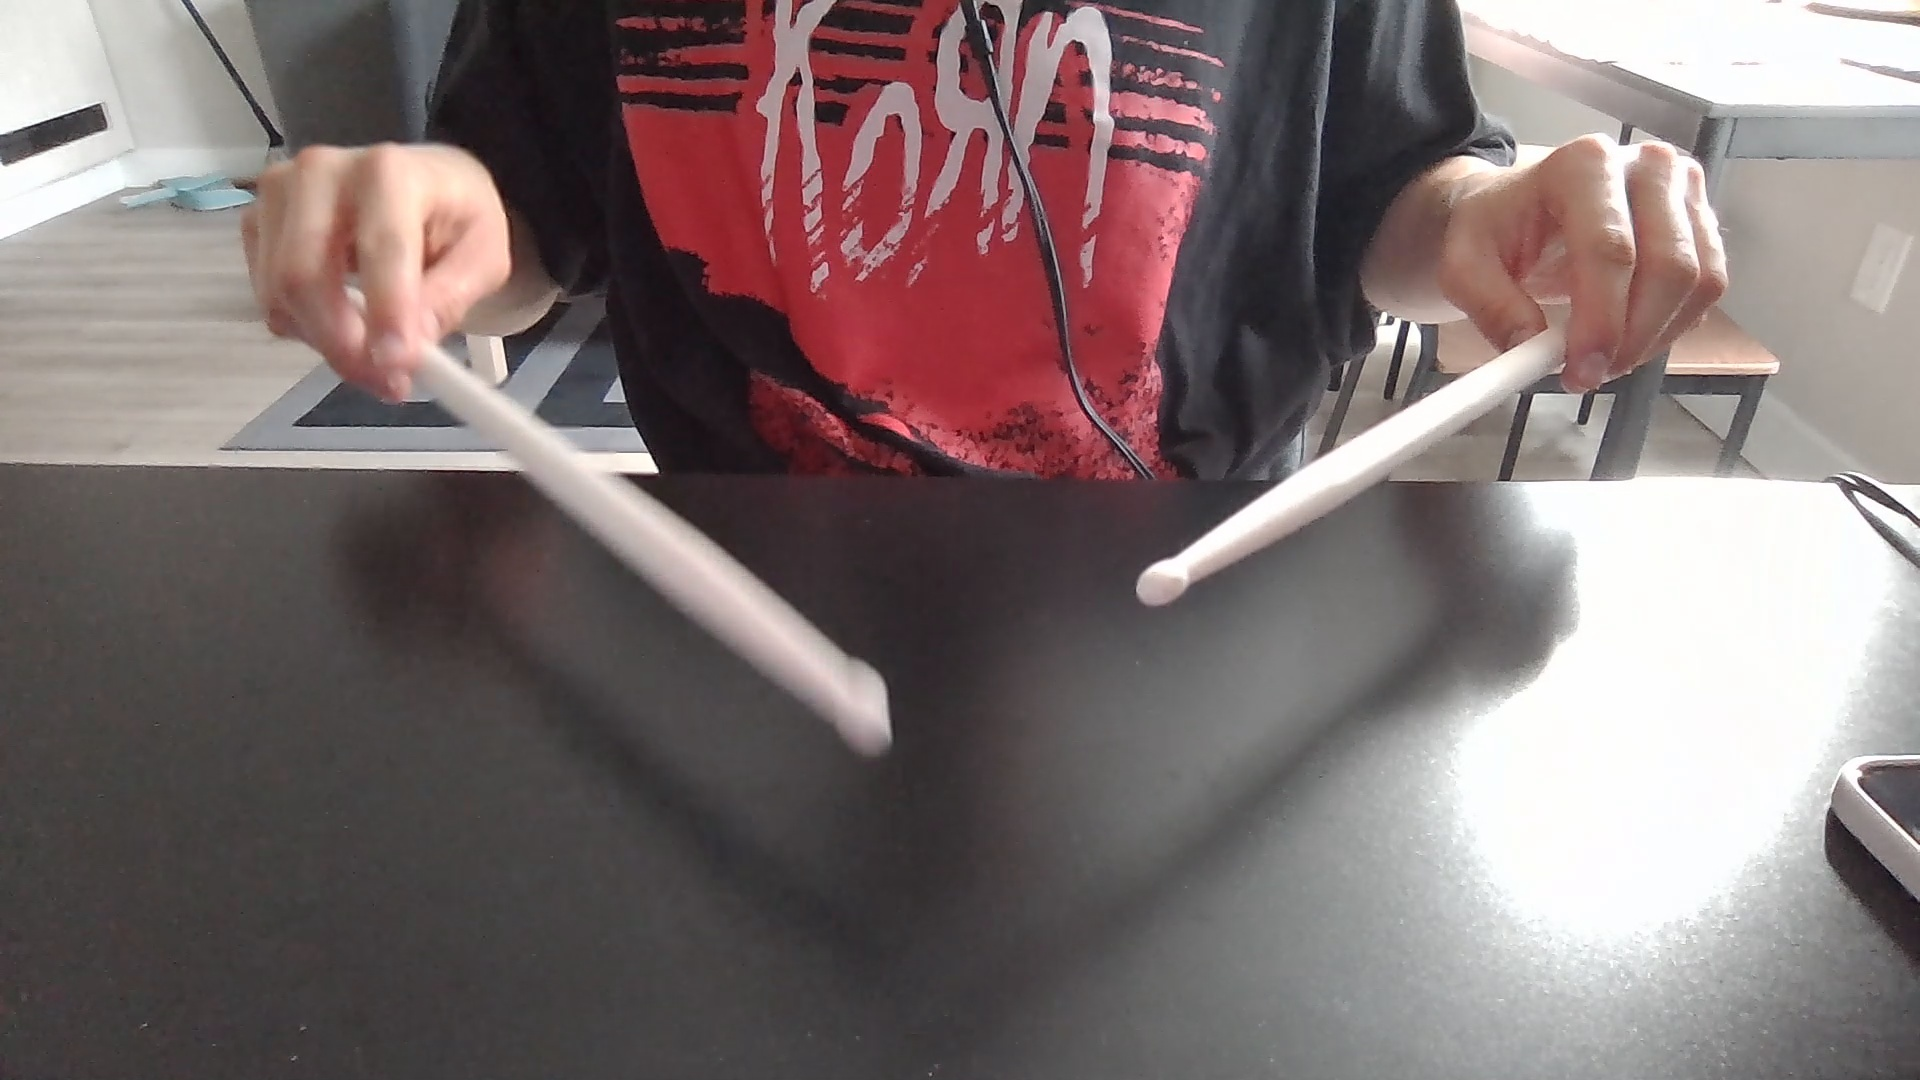left_stick: (803, 628, 918, 767)
right_stick: (1130, 533, 1207, 622)
